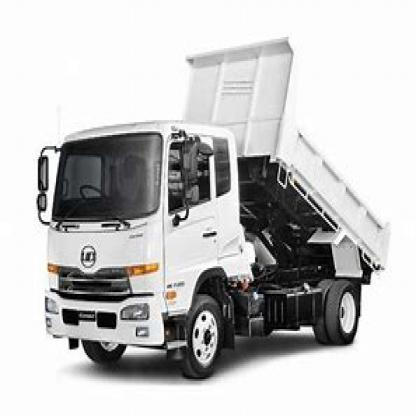dump_truck: (29, 18, 396, 381)
